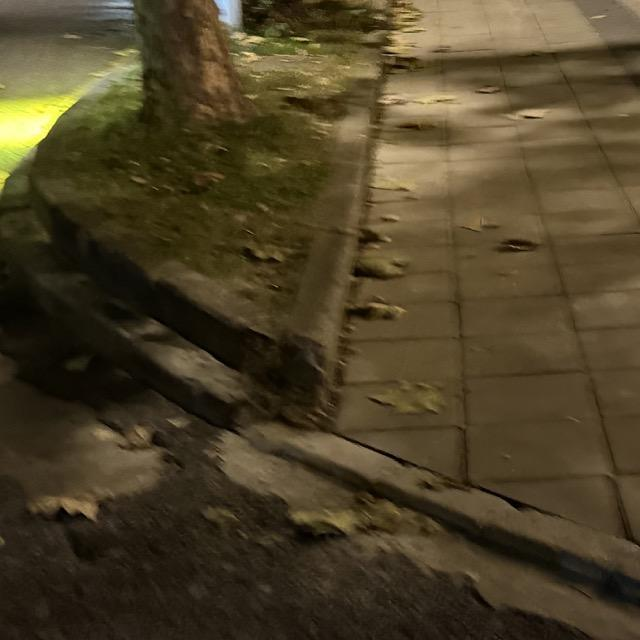curb: (0, 149, 639, 603), (32, 72, 383, 416)
